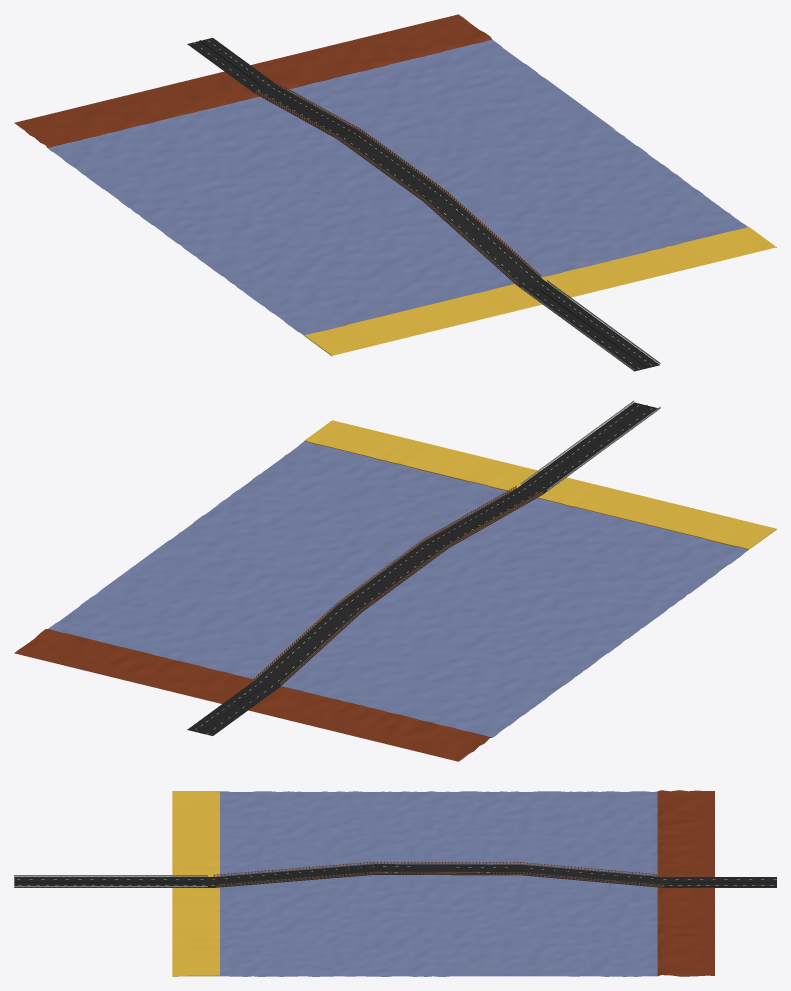
The model's file is Road_Bridge.fbx.
The picture shows the model from 3 angles, top to bottom: view 1: azimuth 30°, elevation 25°; view 2: azimuth 150°, elevation 25°; view 3: azimuth 270°, elevation 25°; orthographic projection. The views are drawn at different scales.
Visible parts, largest first — view 1: Water, Level_01.001; view 2: Water, Level_01.001; view 3: Water, Level_01.001.
Boxes of the visible parts, left/top/right/bottom form: Water: left=14, top=14, right=776, bottom=355; Level_01.001: left=187, top=38, right=660, bottom=371; Water: left=14, top=420, right=776, bottom=761; Level_01.001: left=187, top=400, right=660, bottom=735; Water: left=172, top=790, right=714, bottom=976; Level_01.001: left=14, top=861, right=776, bottom=887.
Size of the model in its own units: 25711 by 44833 by 1162.
